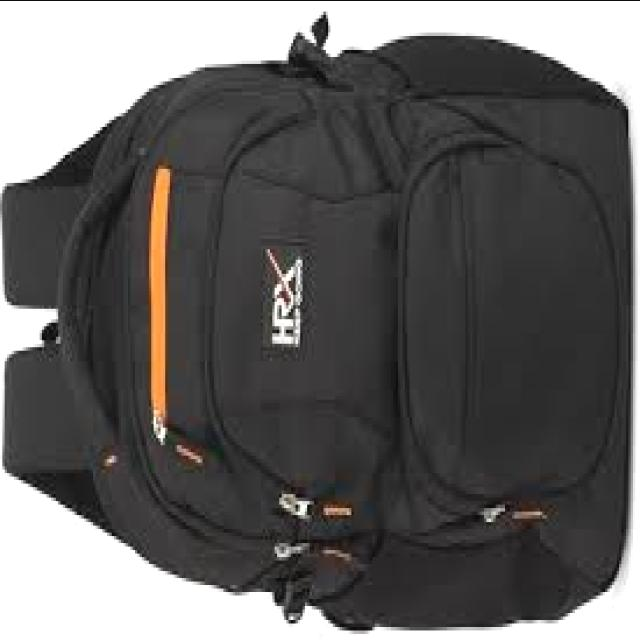backpack: (2, 15, 632, 634)
